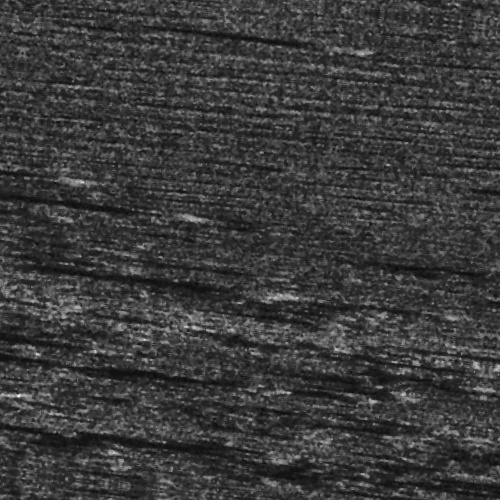object: (143, 217, 236, 226), (0, 234, 84, 243), (250, 449, 313, 458), (282, 34, 345, 41), (255, 288, 308, 293), (239, 269, 280, 274), (266, 381, 307, 386), (0, 416, 53, 419), (472, 338, 500, 343)
shadow: (55, 449, 282, 458), (0, 217, 189, 226), (143, 34, 313, 41), (44, 288, 281, 293), (58, 381, 286, 386), (397, 321, 500, 332), (116, 269, 259, 274), (375, 338, 500, 343), (0, 234, 38, 243), (0, 198, 64, 203), (0, 416, 26, 419)
